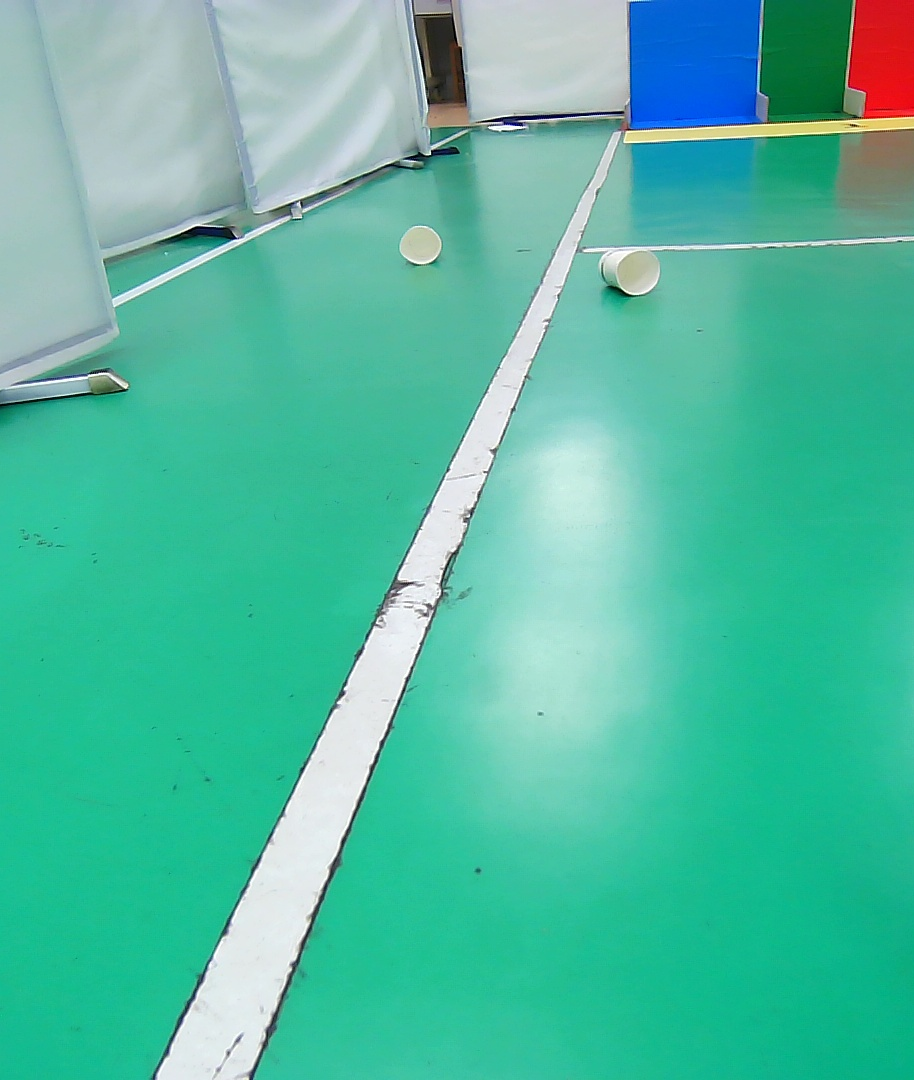papercup: (597, 247, 662, 297), (394, 223, 445, 266)
